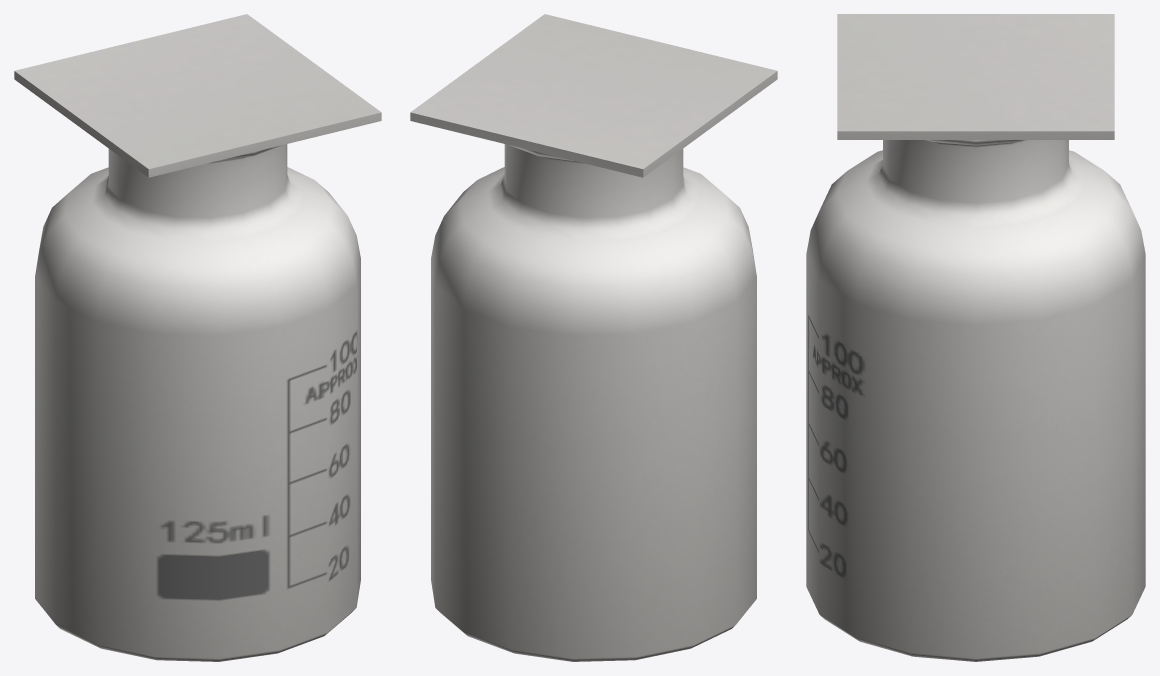
The model's file is hx_fyl_jqp125ml.fbx.
3 views of the same model, side by side, from view 1: azimuth 30°, elevation 25°; view 2: azimuth 150°, elevation 25°; view 3: azimuth 270°, elevation 25° (orthographic). The views are drawn at different scales.
Visible parts, largest first — view 1: hx_fyl_jqp125ml_ping, hx_fyl_jqp125ml_blp; view 2: hx_fyl_jqp125ml_ping, hx_fyl_jqp125ml_blp; view 3: hx_fyl_jqp125ml_ping, hx_fyl_jqp125ml_blp.
Boxes of the visible parts, x1,y1,x2,y2 form: hx_fyl_jqp125ml_ping: (35, 144, 360, 661); hx_fyl_jqp125ml_blp: (14, 14, 381, 177); hx_fyl_jqp125ml_ping: (431, 144, 756, 661); hx_fyl_jqp125ml_blp: (410, 14, 777, 177); hx_fyl_jqp125ml_ping: (806, 140, 1145, 661); hx_fyl_jqp125ml_blp: (837, 14, 1114, 139).
Size of the model in its own units: 5.52 by 9.4 by 5.52.
Materials: 1 (1 with a texture image).
